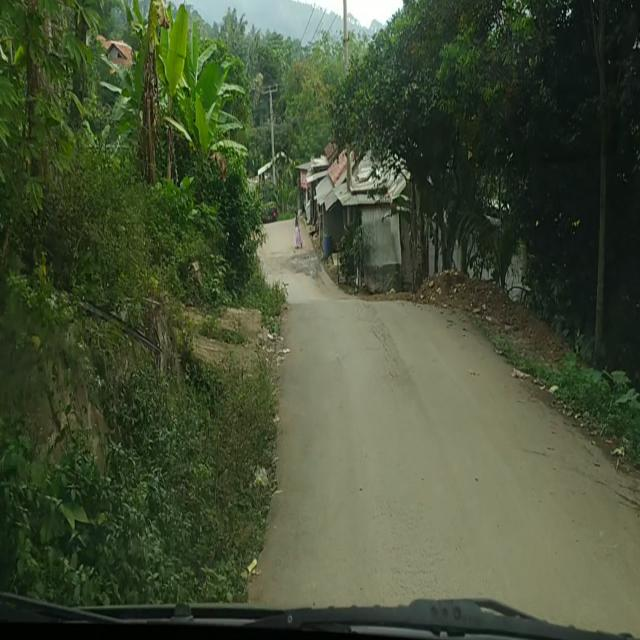Drain Hole: (362, 313, 408, 390)
